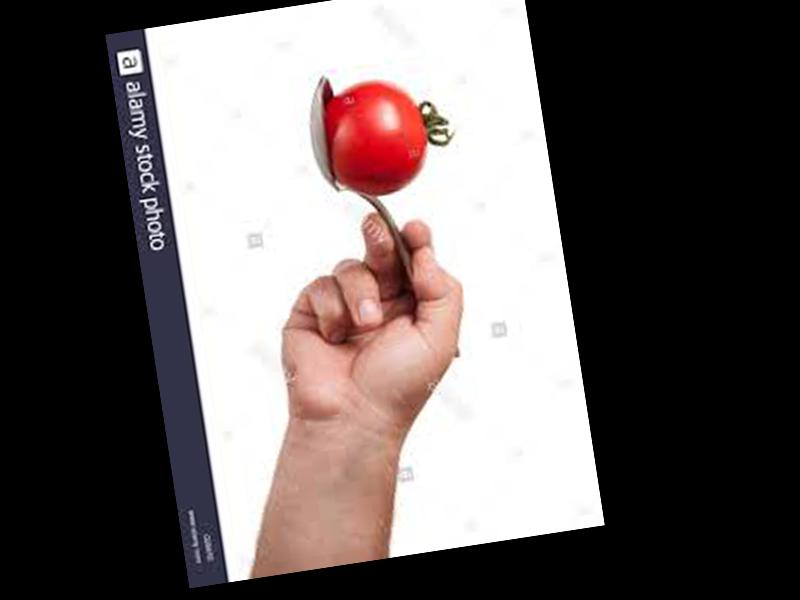Tomato: (321, 76, 435, 202)
